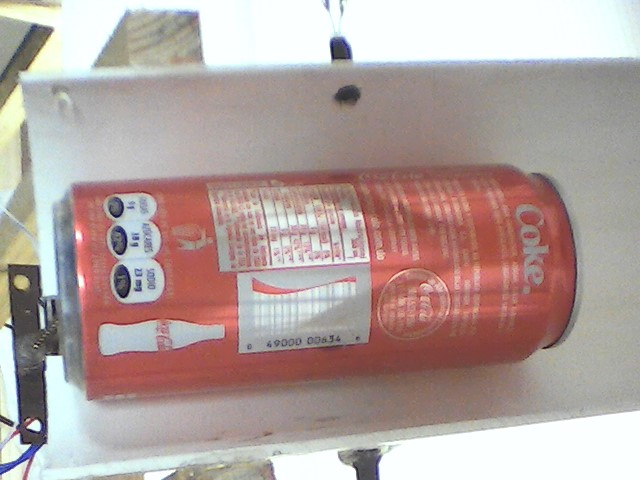lata: (46, 159, 591, 408)
